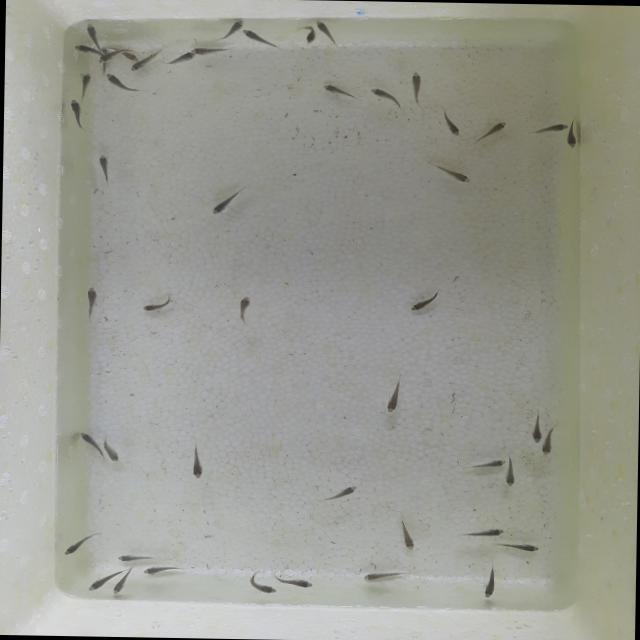fingerling: (313, 78, 357, 104), (136, 294, 183, 316), (380, 378, 406, 416), (314, 484, 360, 504), (476, 117, 511, 143), (392, 519, 419, 552), (402, 292, 436, 318), (366, 85, 404, 108), (404, 70, 428, 106), (434, 162, 471, 185), (64, 96, 89, 130), (103, 74, 142, 95), (80, 284, 104, 318), (81, 572, 118, 594), (184, 449, 209, 481), (72, 424, 102, 450), (481, 564, 502, 601), (210, 188, 235, 219), (90, 151, 116, 180), (61, 535, 94, 557), (274, 572, 318, 588), (244, 574, 276, 596), (241, 30, 280, 48), (232, 292, 252, 327), (494, 540, 543, 554), (504, 452, 521, 492), (75, 70, 94, 104), (440, 107, 460, 138), (536, 118, 570, 136), (101, 440, 124, 466), (467, 456, 513, 469), (131, 52, 160, 72), (112, 552, 163, 563), (142, 563, 182, 577), (456, 527, 506, 538), (310, 20, 336, 41), (358, 572, 407, 582), (294, 24, 317, 45), (112, 572, 132, 596), (167, 51, 199, 66), (530, 416, 545, 444), (82, 22, 102, 42), (224, 18, 244, 38), (96, 51, 122, 66), (566, 121, 579, 150), (541, 428, 553, 456), (185, 46, 225, 54), (70, 43, 96, 54)
